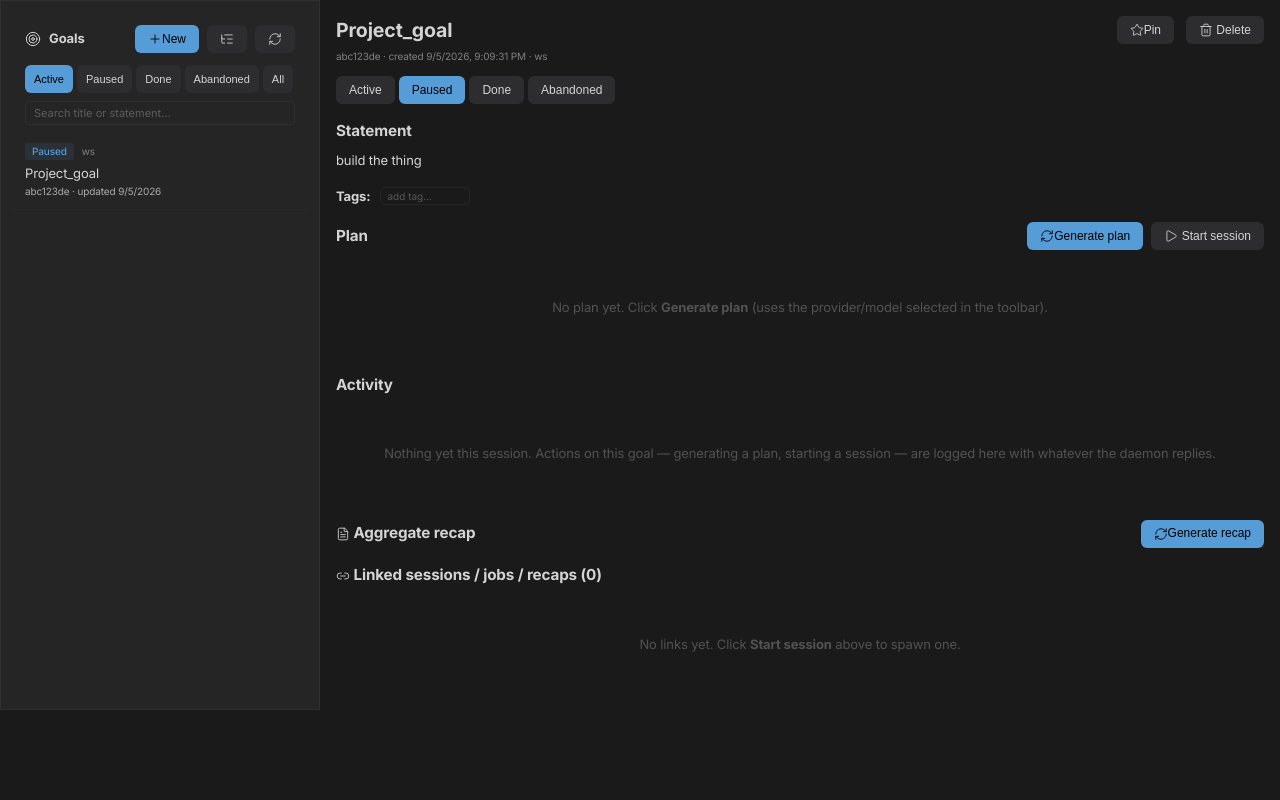
Scenario: GoalPanel activity log › keeps a failed plan generation on screen with the daemon error
Check: the text "build the thing" is shown, box 336,152 -> 422,168
Click the button "Generate plan" at (1085,236), box 1027,222 -> 1143,250
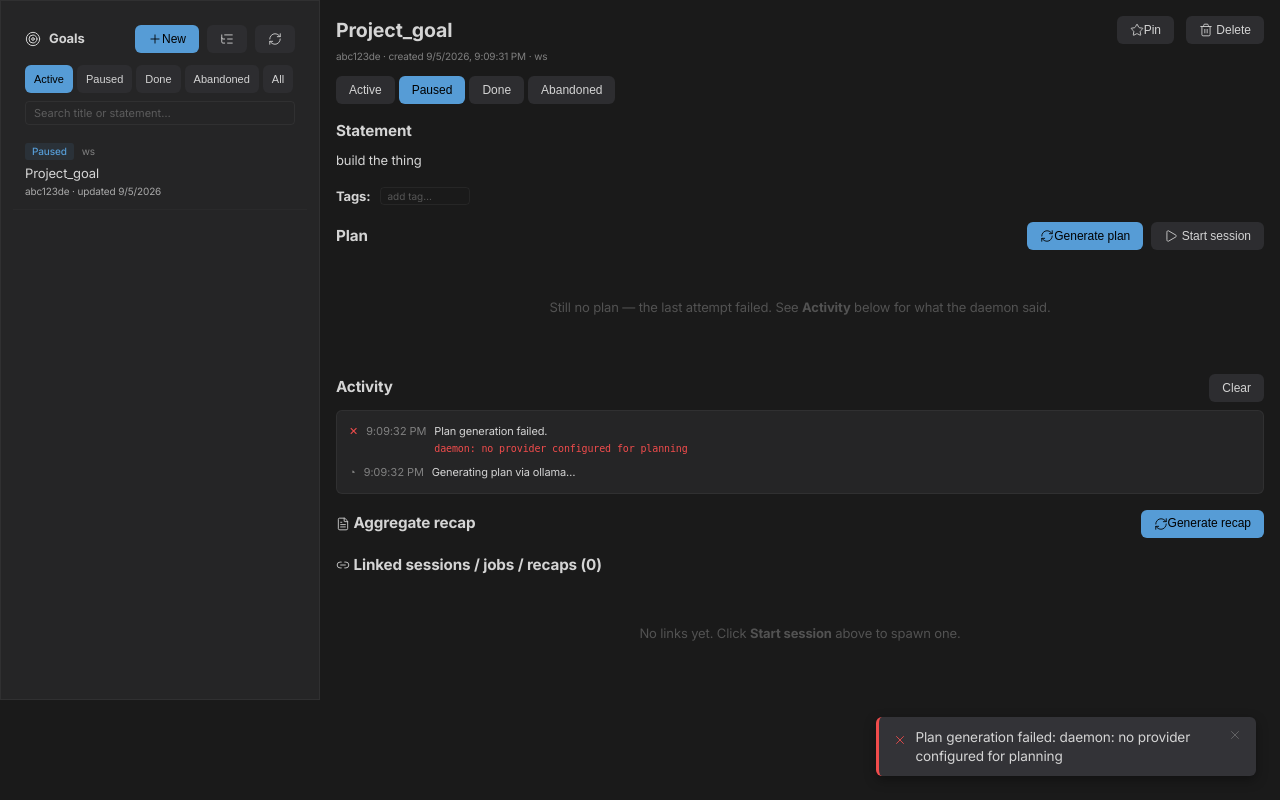
Check: the text "Plan generation failed." is shown, box 434,424 -> 547,438
Check: the text "daemon: no provider configured for planning" is shown, box 434,441 -> 688,456
